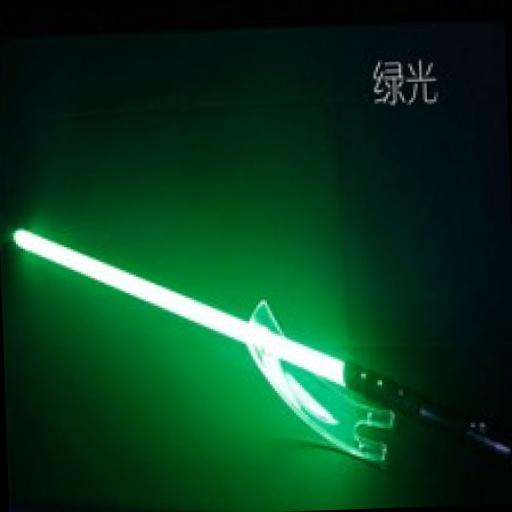lightsaber: (14, 207, 512, 474)
